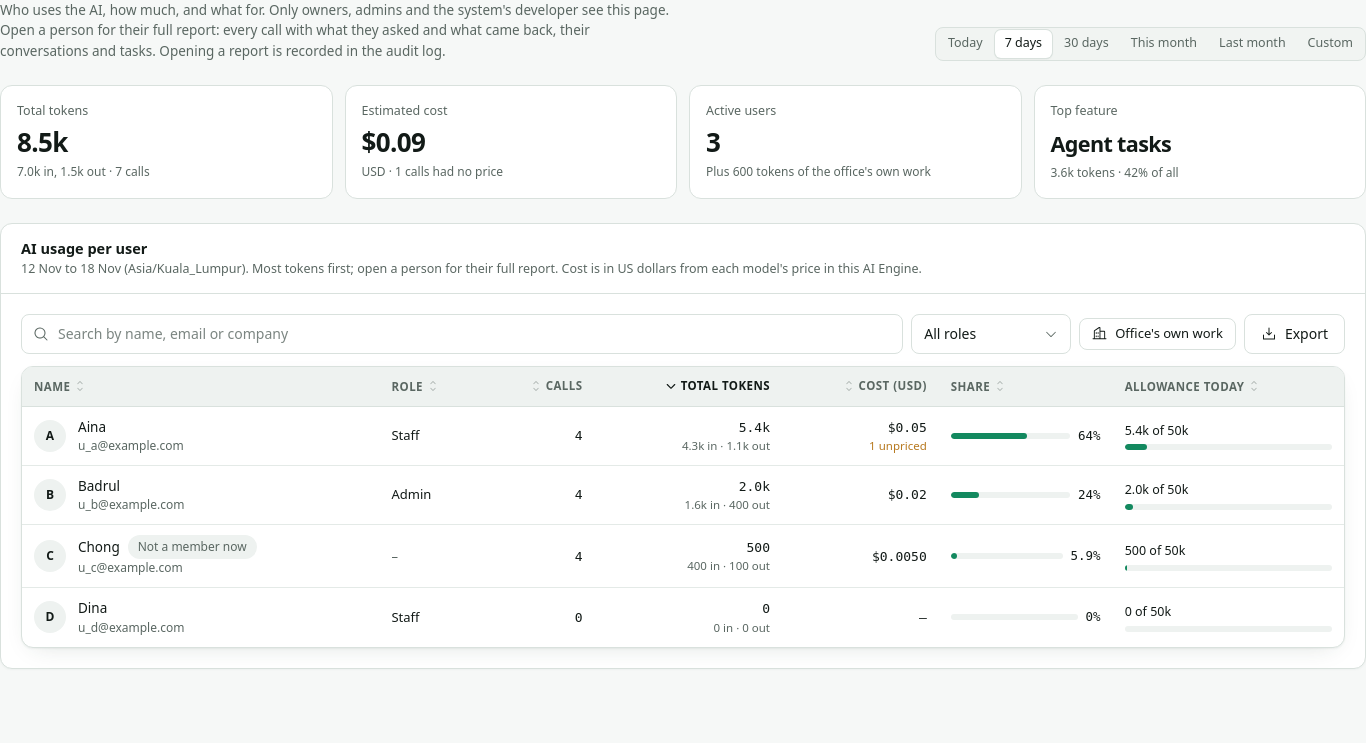
AI usage per user › lists everyone for the period, most tokens first, with the workspace totals
The width and height of the screenshot is (1366, 743).
Expected: the number of rows is 5, [22,367,1344,407]; [22,407,1344,466]; [22,466,1344,525]; [22,525,1344,588]; [22,588,1344,647]
Expected: the text "8.5k" is shown, [17,124,68,160]
Click the tab "Today": {"x": 965, "y": 44} [938,30,993,58]
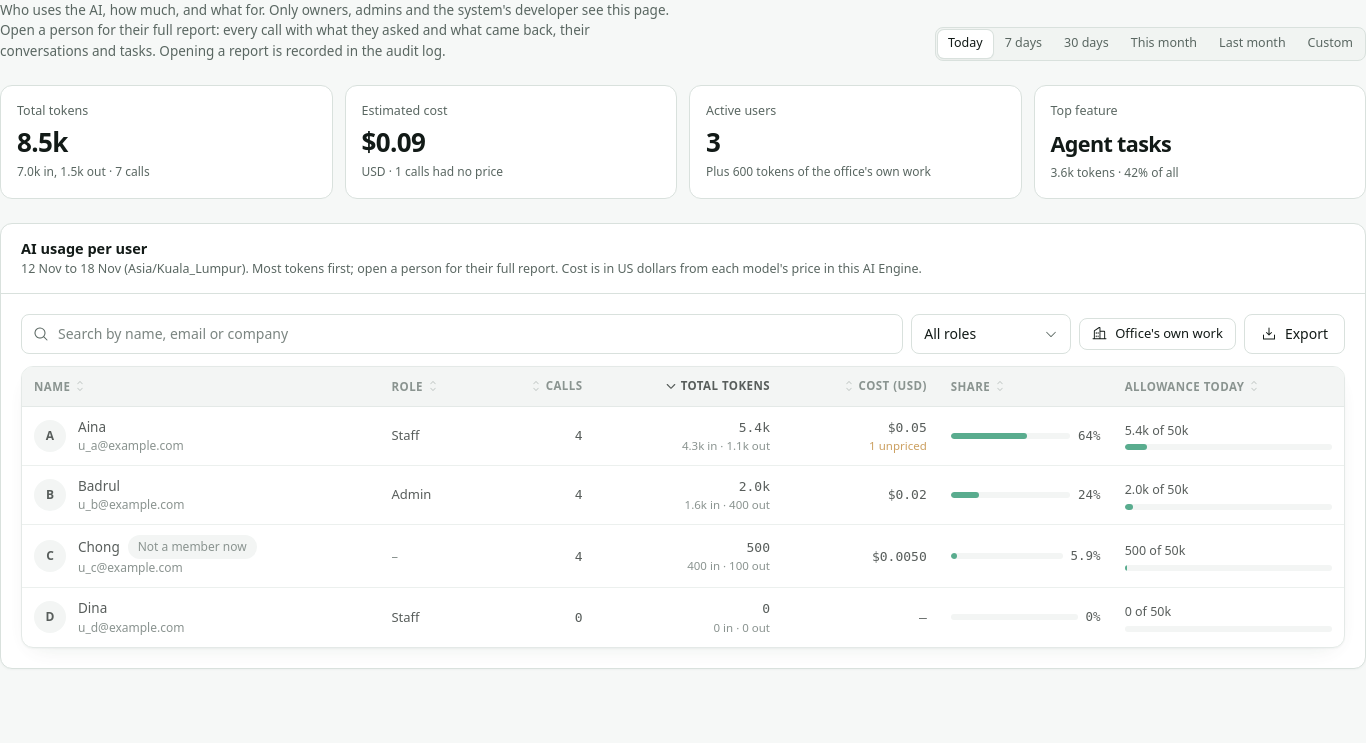
Click the tab "Custom": {"x": 1330, "y": 44} [1298,30,1363,58]
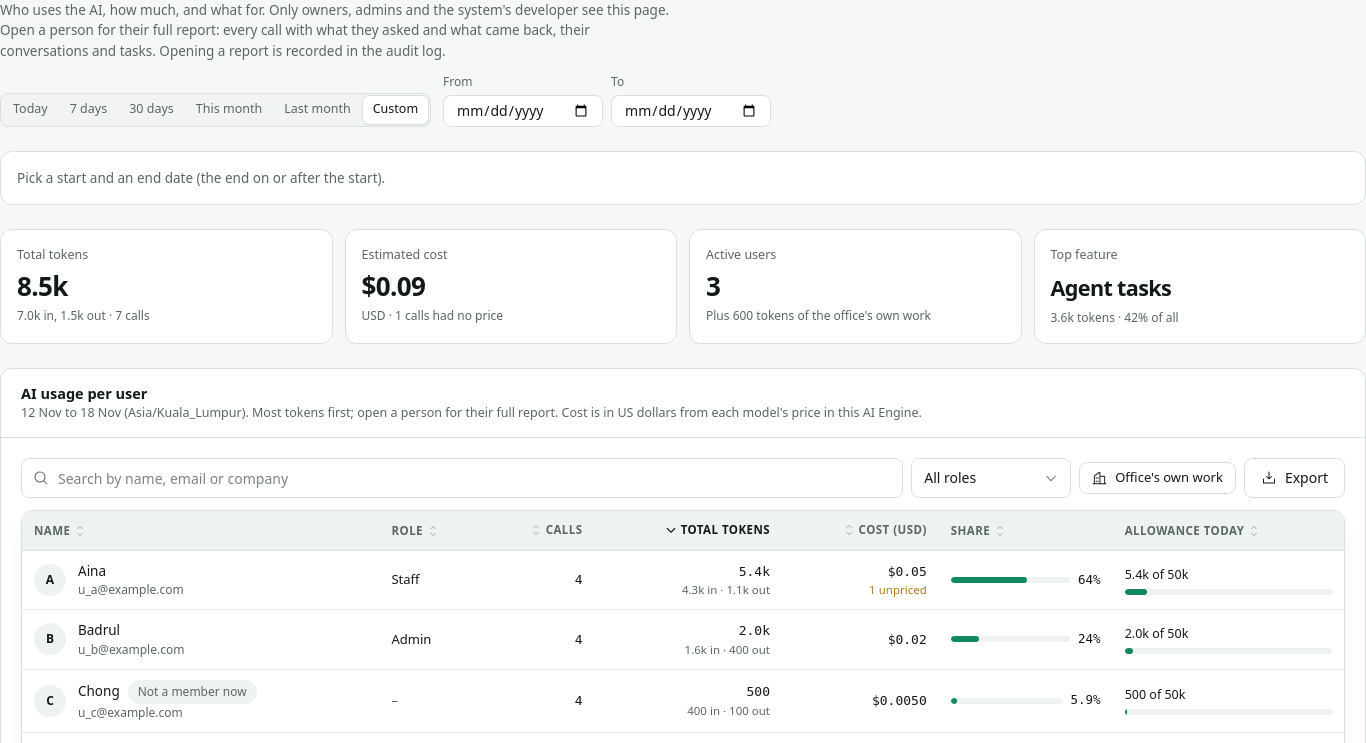
Now the text "Pick a start and an end date (the end on or after the start)." is shown, box [0,151,1365,205]
